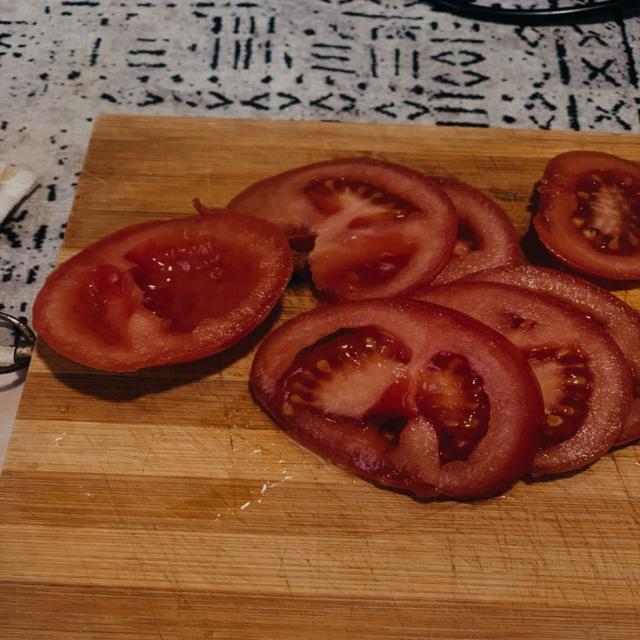sliced_tomato: (251, 299, 543, 499), (34, 211, 292, 371), (420, 282, 632, 475), (228, 158, 456, 299), (465, 266, 639, 444), (534, 152, 639, 279), (434, 178, 519, 284)
